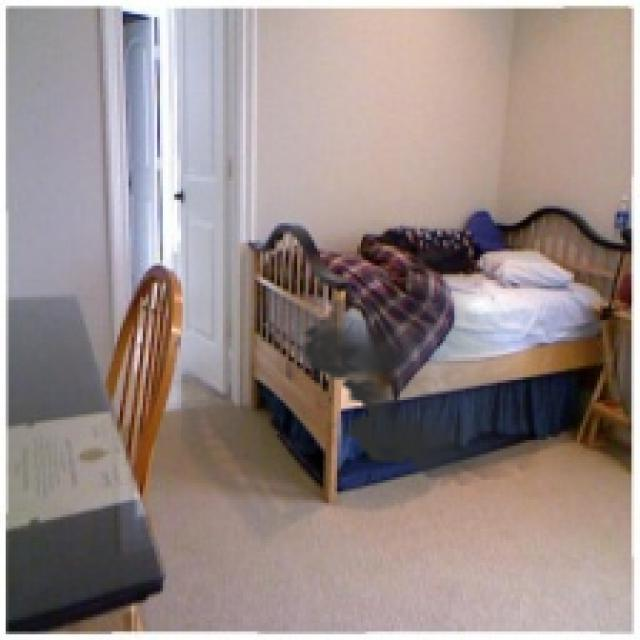Smoke: (291, 243, 560, 486)
